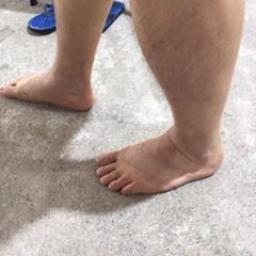Lateral View -Left Foot-: (90, 110, 232, 203)
